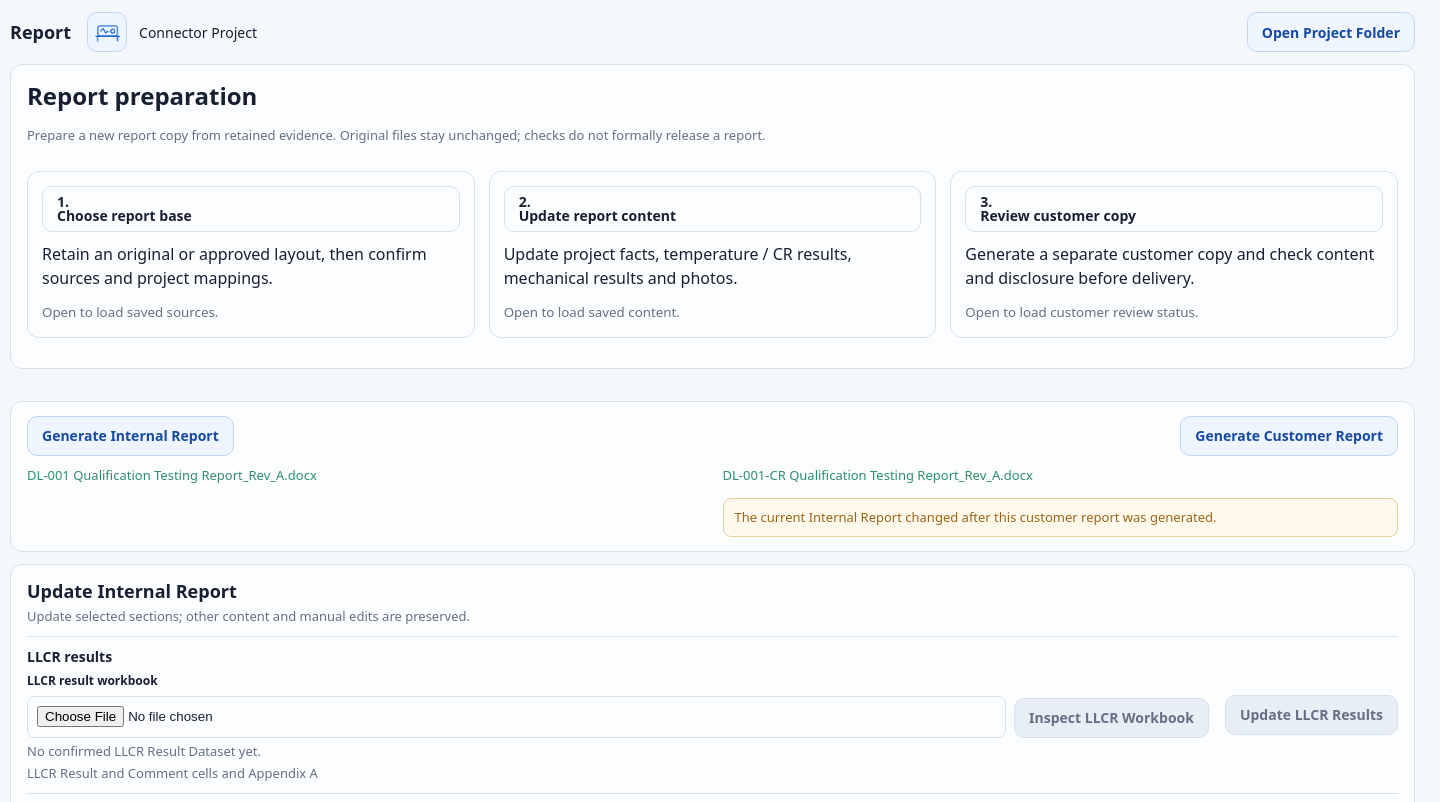
Test case: ReportWorkspace › downloads a managed_draft copy without publishing or archiving the current report
Click the button "Generate Internal Report".
click(130, 436)  # box x1=27 y1=416 x2=234 y2=456
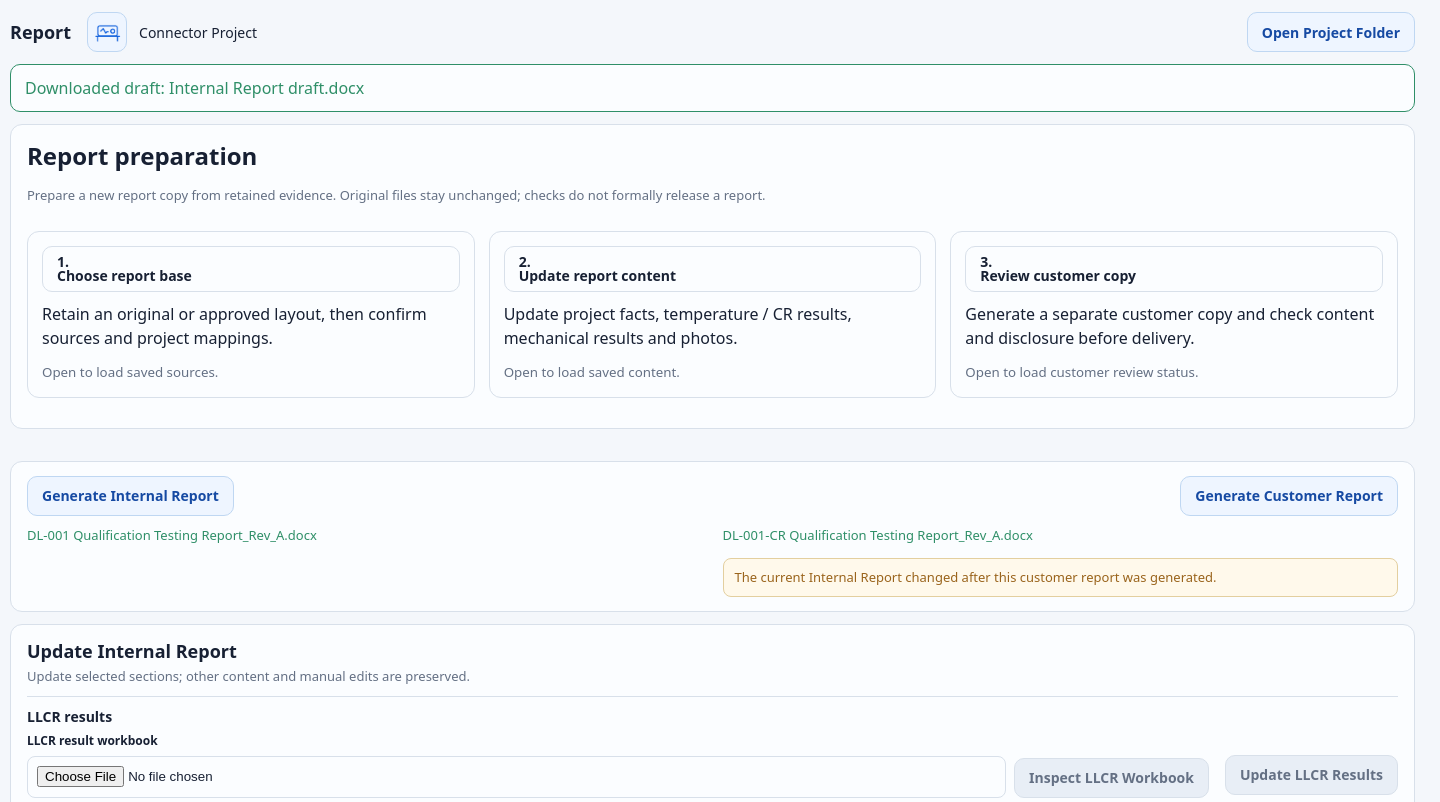
Expected: the text "DL-001 Qualification Testing Report_Rev_A.docx" is shown, x1=27 y1=526 x2=317 y2=544
Now the text "Downloaded draft: Internal Report draft.docx" is shown, box x1=10 y1=64 x2=1415 y2=112
